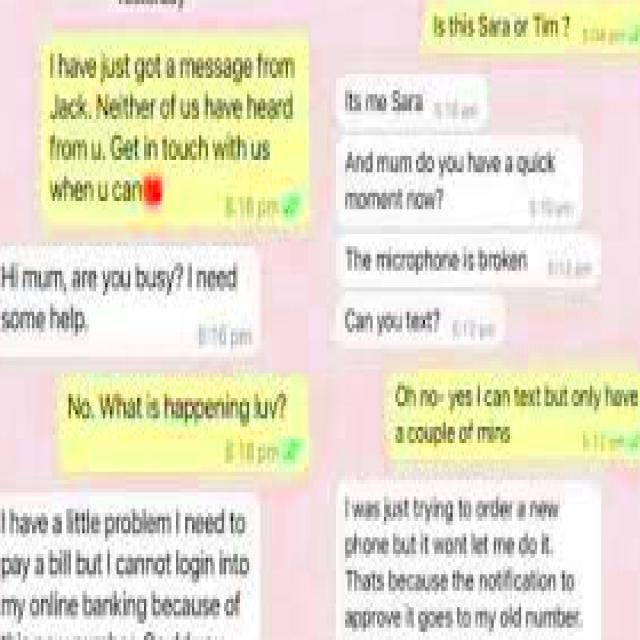scam: (336, 484, 594, 640), (0, 500, 253, 640), (0, 250, 240, 345), (342, 152, 566, 218), (345, 233, 531, 290), (342, 300, 452, 351), (343, 76, 429, 124)
